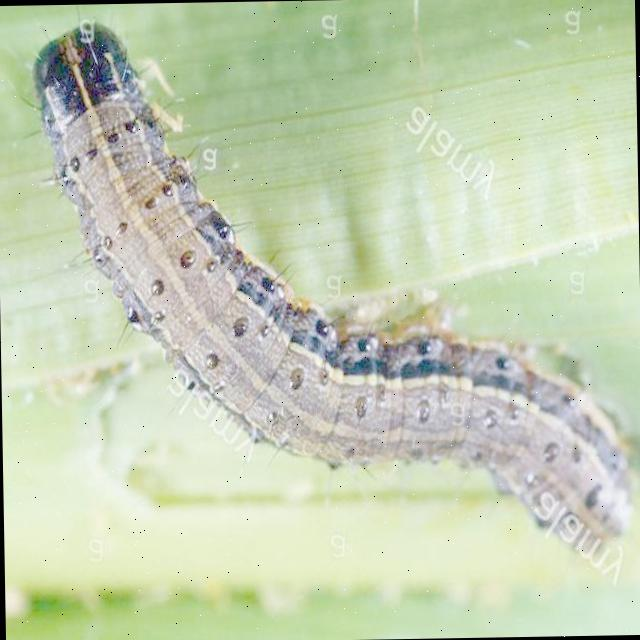worm: (24, 12, 636, 597)
